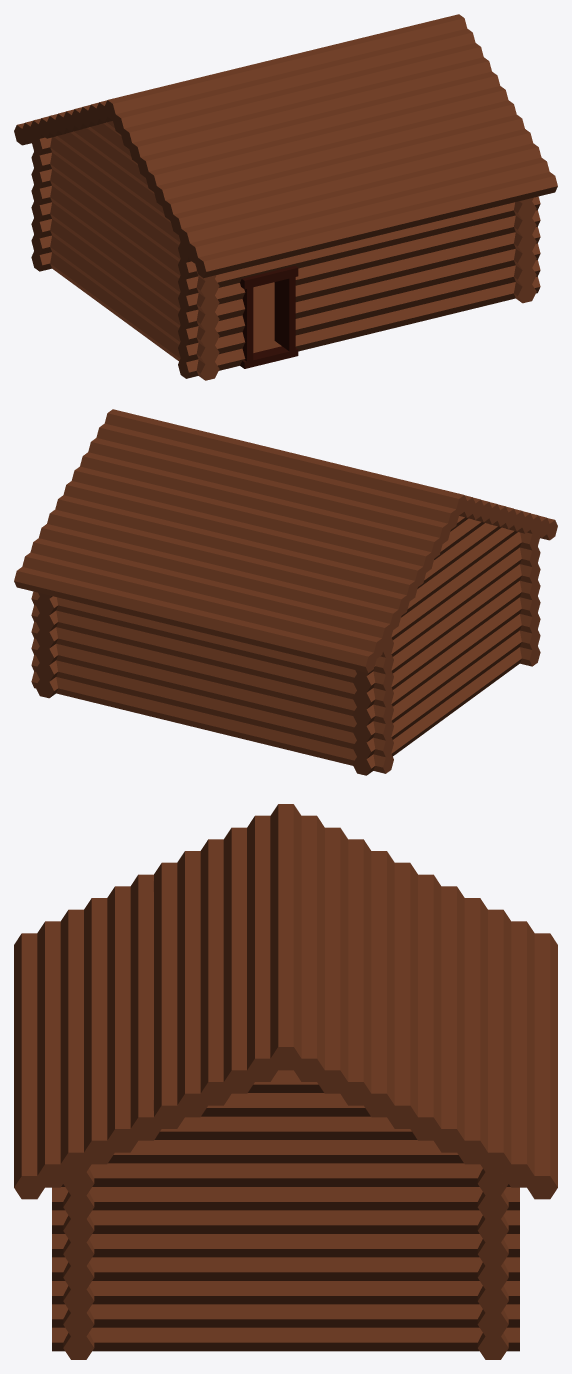
The model's file is LogCabin.fbx.
3 renders of one model, top to bottom at view 1: azimuth 30°, elevation 25°; view 2: azimuth 150°, elevation 25°; view 3: azimuth 270°, elevation 25°, orthographic. The views are drawn at different scales.
Visible parts, largest first — view 1: Roof, SouthWall, WestWall, NorthWall, EastWall, DoorRight, Floor, DoorLeft, DoorRoof, DoorStep; view 2: Roof, NorthWall, WestWall, SouthWall, EastWall; view 3: Roof, EastWall, NorthWall, SouthWall.
Boxes of the visible parts, box(x1,y1,x2,y2) form: Roof: box(14, 14, 557, 278); SouthWall: box(178, 196, 540, 378); WestWall: box(50, 121, 219, 380); NorthWall: box(31, 137, 51, 271); EastWall: box(514, 197, 536, 303); DoorRight: box(274, 277, 295, 351); Floor: box(253, 282, 281, 352); DoorLeft: box(242, 287, 253, 361); DoorRoof: box(240, 265, 298, 289); DoorStep: box(240, 346, 298, 368); Roof: box(14, 409, 557, 673); NorthWall: box(31, 591, 393, 773); WestWall: box(352, 516, 521, 775); SouthWall: box(520, 532, 540, 666); EastWall: box(35, 592, 57, 698); Roof: box(14, 804, 557, 1199); EastWall: box(52, 1070, 519, 1351); NorthWall: box(477, 1169, 508, 1359); SouthWall: box(63, 1169, 94, 1359).
Size of the model in its own units: 1109 by 667 by 1050.
